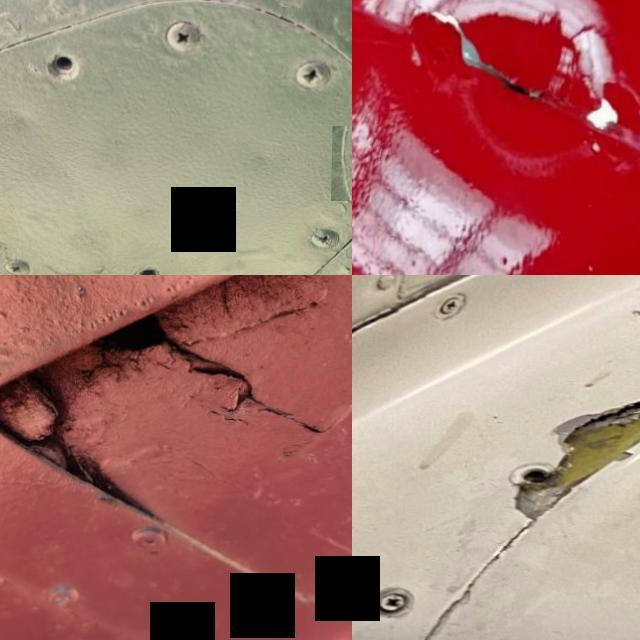Crack: (352, 0, 640, 177), (76, 294, 273, 436), (484, 361, 640, 532)
Missing_Fastener: (28, 32, 97, 102), (112, 244, 179, 275), (332, 126, 352, 202)
